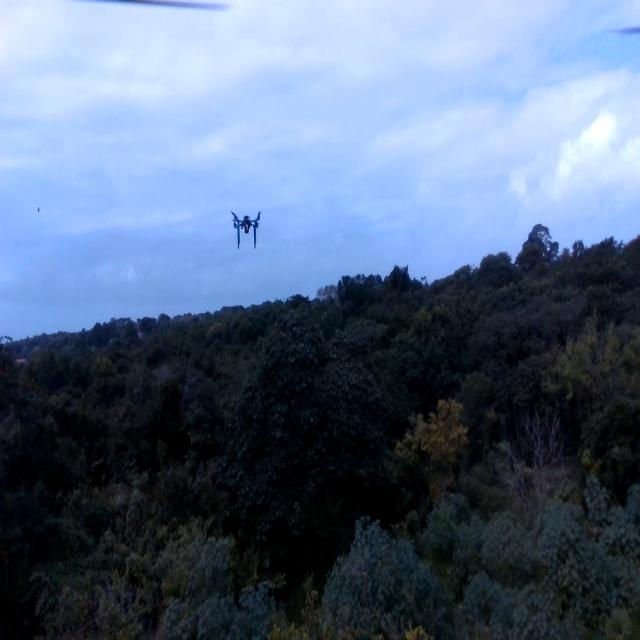-uav-: (226, 203, 272, 258)
